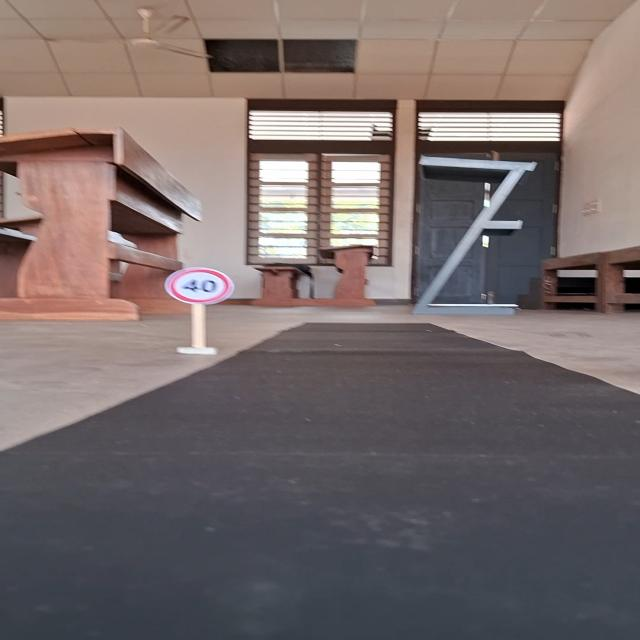Speed40: (161, 265, 237, 307)
